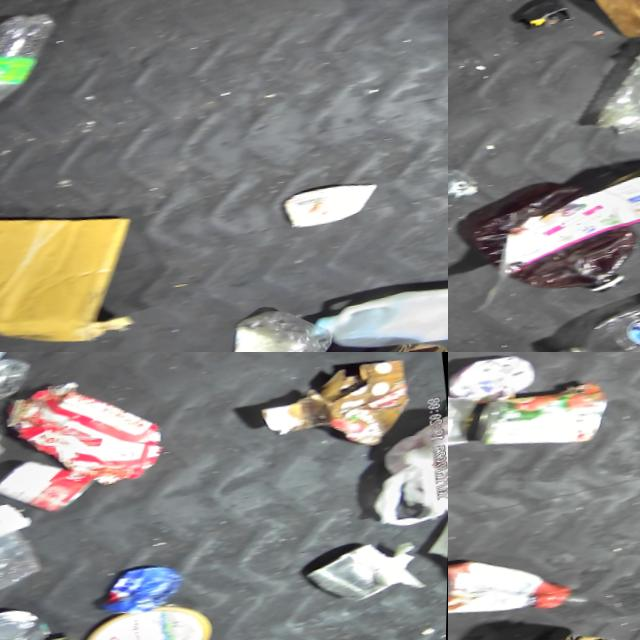can: (472, 380, 619, 468), (301, 543, 413, 620), (0, 452, 98, 526), (95, 563, 191, 627), (448, 394, 487, 464), (0, 352, 37, 417), (0, 604, 56, 640)
milk_jug: (311, 272, 448, 352)
plastic_bottle: (0, 3, 70, 127), (556, 270, 640, 352), (0, 484, 48, 609)
